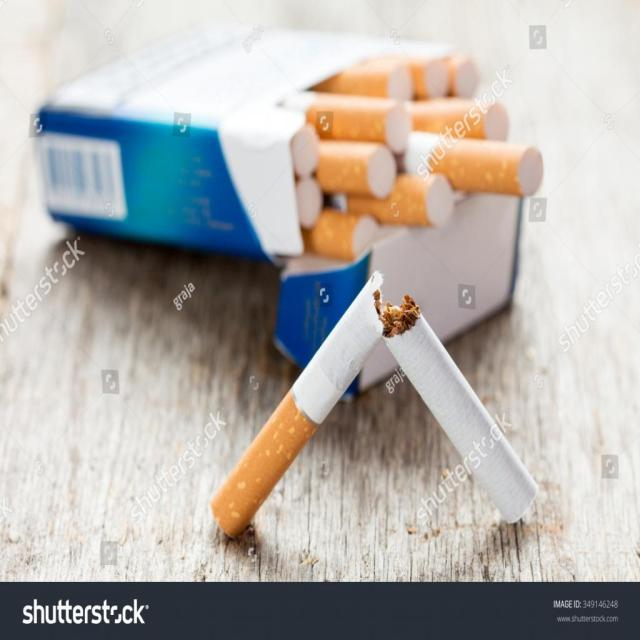smoking: (28, 9, 562, 548)
